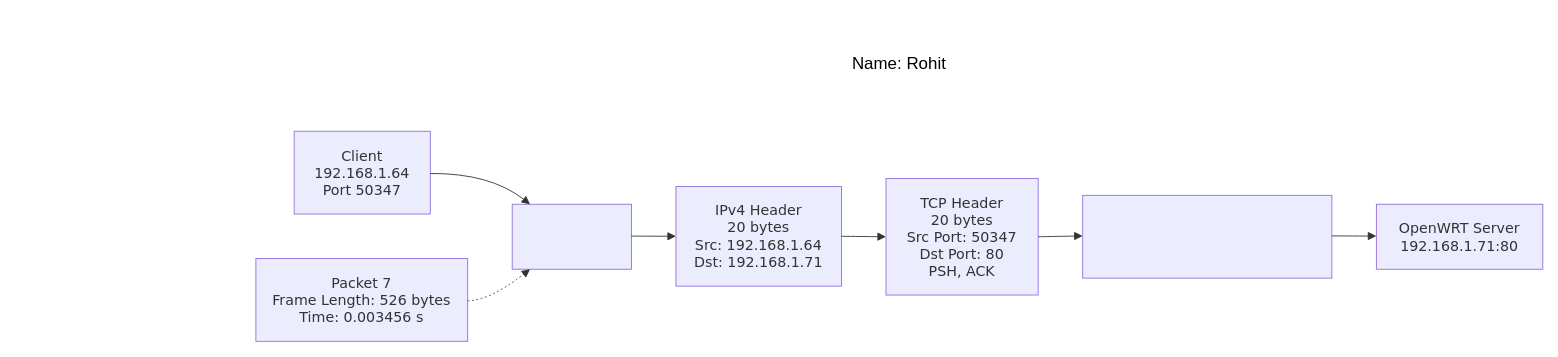
Image size: 1558x357. Some labels were removed from this diagram. Here are the shapes that lost their labels. From the top down, the centre of each, then its label:
point (571, 236): Ethernet II 14 bytes
point (1207, 236): HTTP Request 145 bytes GET /12326317.html HTTP/1.1
